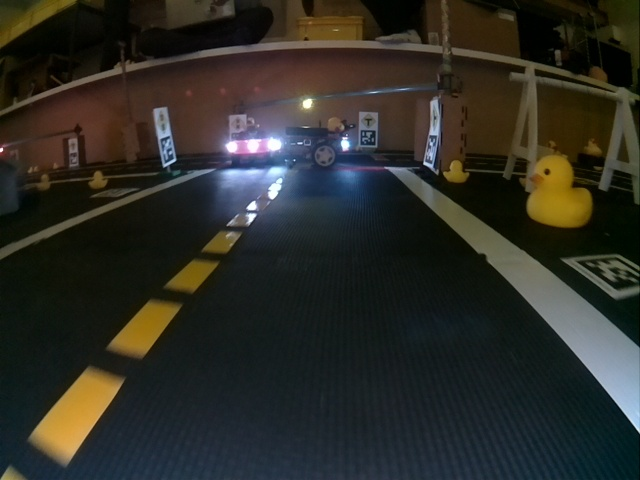Duckie: (528, 155, 592, 228), (443, 160, 470, 183), (89, 170, 106, 188)
Duckiebot: (285, 120, 348, 167), (228, 129, 282, 165)
Intersection sign: (431, 104, 440, 128), (361, 114, 377, 127)
QR code: (560, 254, 638, 300), (92, 187, 137, 198), (159, 136, 176, 164), (425, 137, 436, 165), (361, 131, 376, 145)
Signal sign: (155, 111, 170, 133)
Traffic light: (301, 98, 314, 108)
